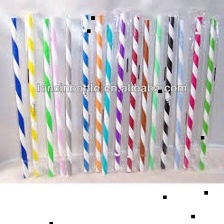drinking_straw: (6, 12, 33, 182), (194, 13, 221, 175), (38, 13, 60, 180), (146, 12, 166, 173), (113, 10, 132, 174), (78, 10, 94, 174)
